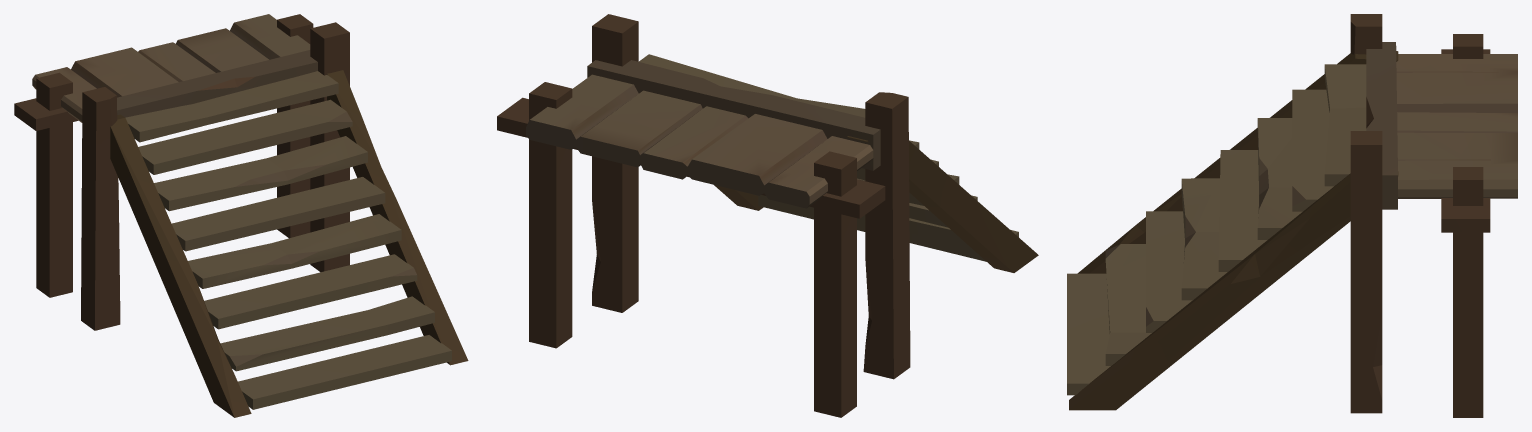
File: SM_Veh_Wagon_Steps_02.glb
3 views of the same model, side by side, from view 1: azimuth 30°, elevation 25°; view 2: azimuth 150°, elevation 25°; view 3: azimuth 270°, elevation 25° (orthographic). The views are drawn at different scales.
Visible parts, largest first — view 1: SM_Veh_Wagon_Steps_02; view 2: SM_Veh_Wagon_Steps_02; view 3: SM_Veh_Wagon_Steps_02.
Boxes of the visible parts, left/top/right/bottom form: SM_Veh_Wagon_Steps_02: left=14, top=14, right=468, bottom=417; SM_Veh_Wagon_Steps_02: left=497, top=14, right=1038, bottom=417; SM_Veh_Wagon_Steps_02: left=1067, top=14, right=1517, bottom=417.
Bounding box in the file's own units: 189 × 139 × 213.
Materials: 1 (1 with a texture image).
